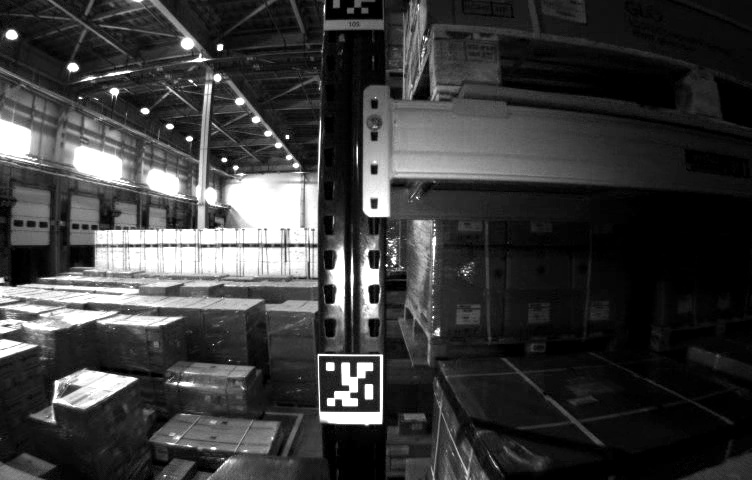True Barcode: (542, 1, 588, 24)
